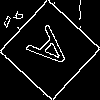A: (25, 25, 81, 81)
